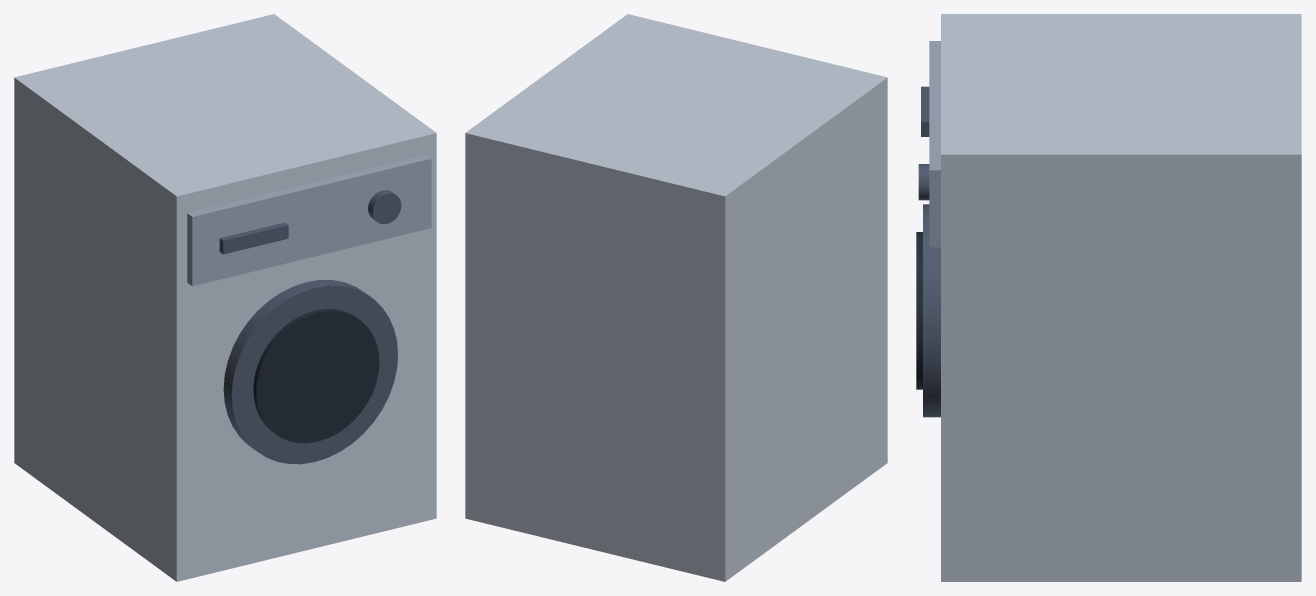
Rendered from dryer-lite.glb.
3 renders of one model, left to right at view 1: azimuth 30°, elevation 25°; view 2: azimuth 150°, elevation 25°; view 3: azimuth 270°, elevation 25°, orthographic. The views are drawn at different scales.
Parts seen in each view (by area): view 1: dryer; view 2: dryer; view 3: dryer.
Part boxes in pixels (x1,y1,x2,y2): dryer: (14,14,436,581); dryer: (465,14,887,581); dryer: (916,14,1301,581).
Size of the model in its own units: 0.5999 by 0.85 by 0.6942.
